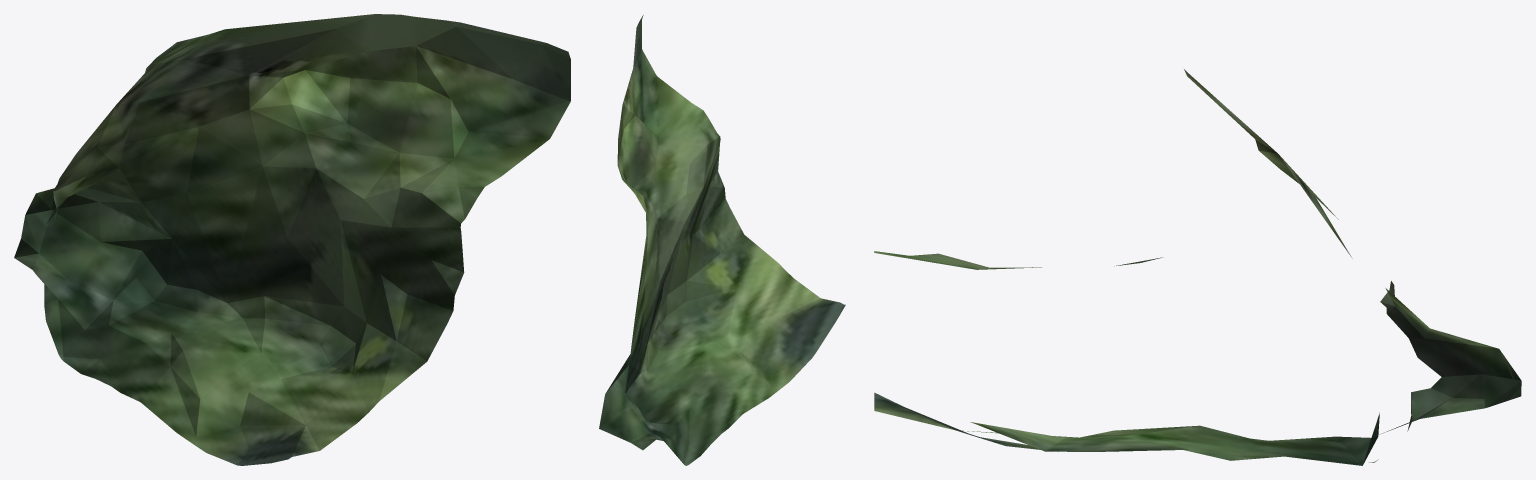
The picture shows the model from 3 angles, left to right: view 1: azimuth 30°, elevation 25°; view 2: azimuth 150°, elevation 25°; view 3: azimuth 270°, elevation 25°; orthographic projection. The views are drawn at different scales.
Size of the model in its own units: 6.26 by 8.41 by 10.99.
1 material, 1 textured.
